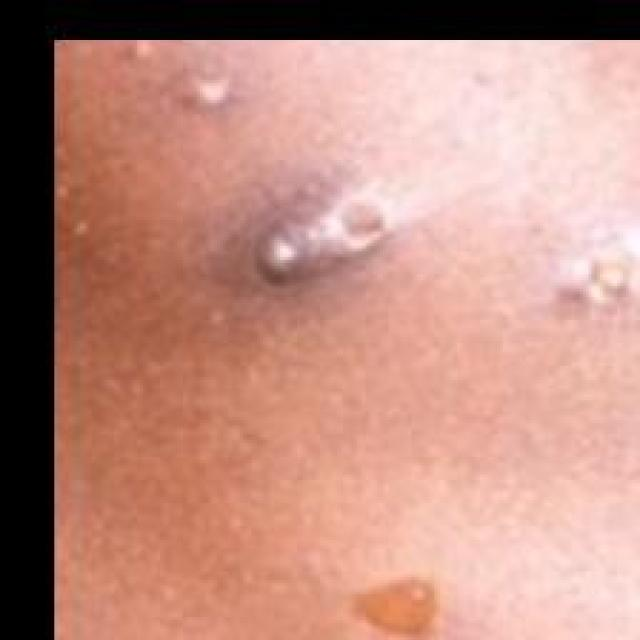monkeypox: (53, 42, 640, 640)
